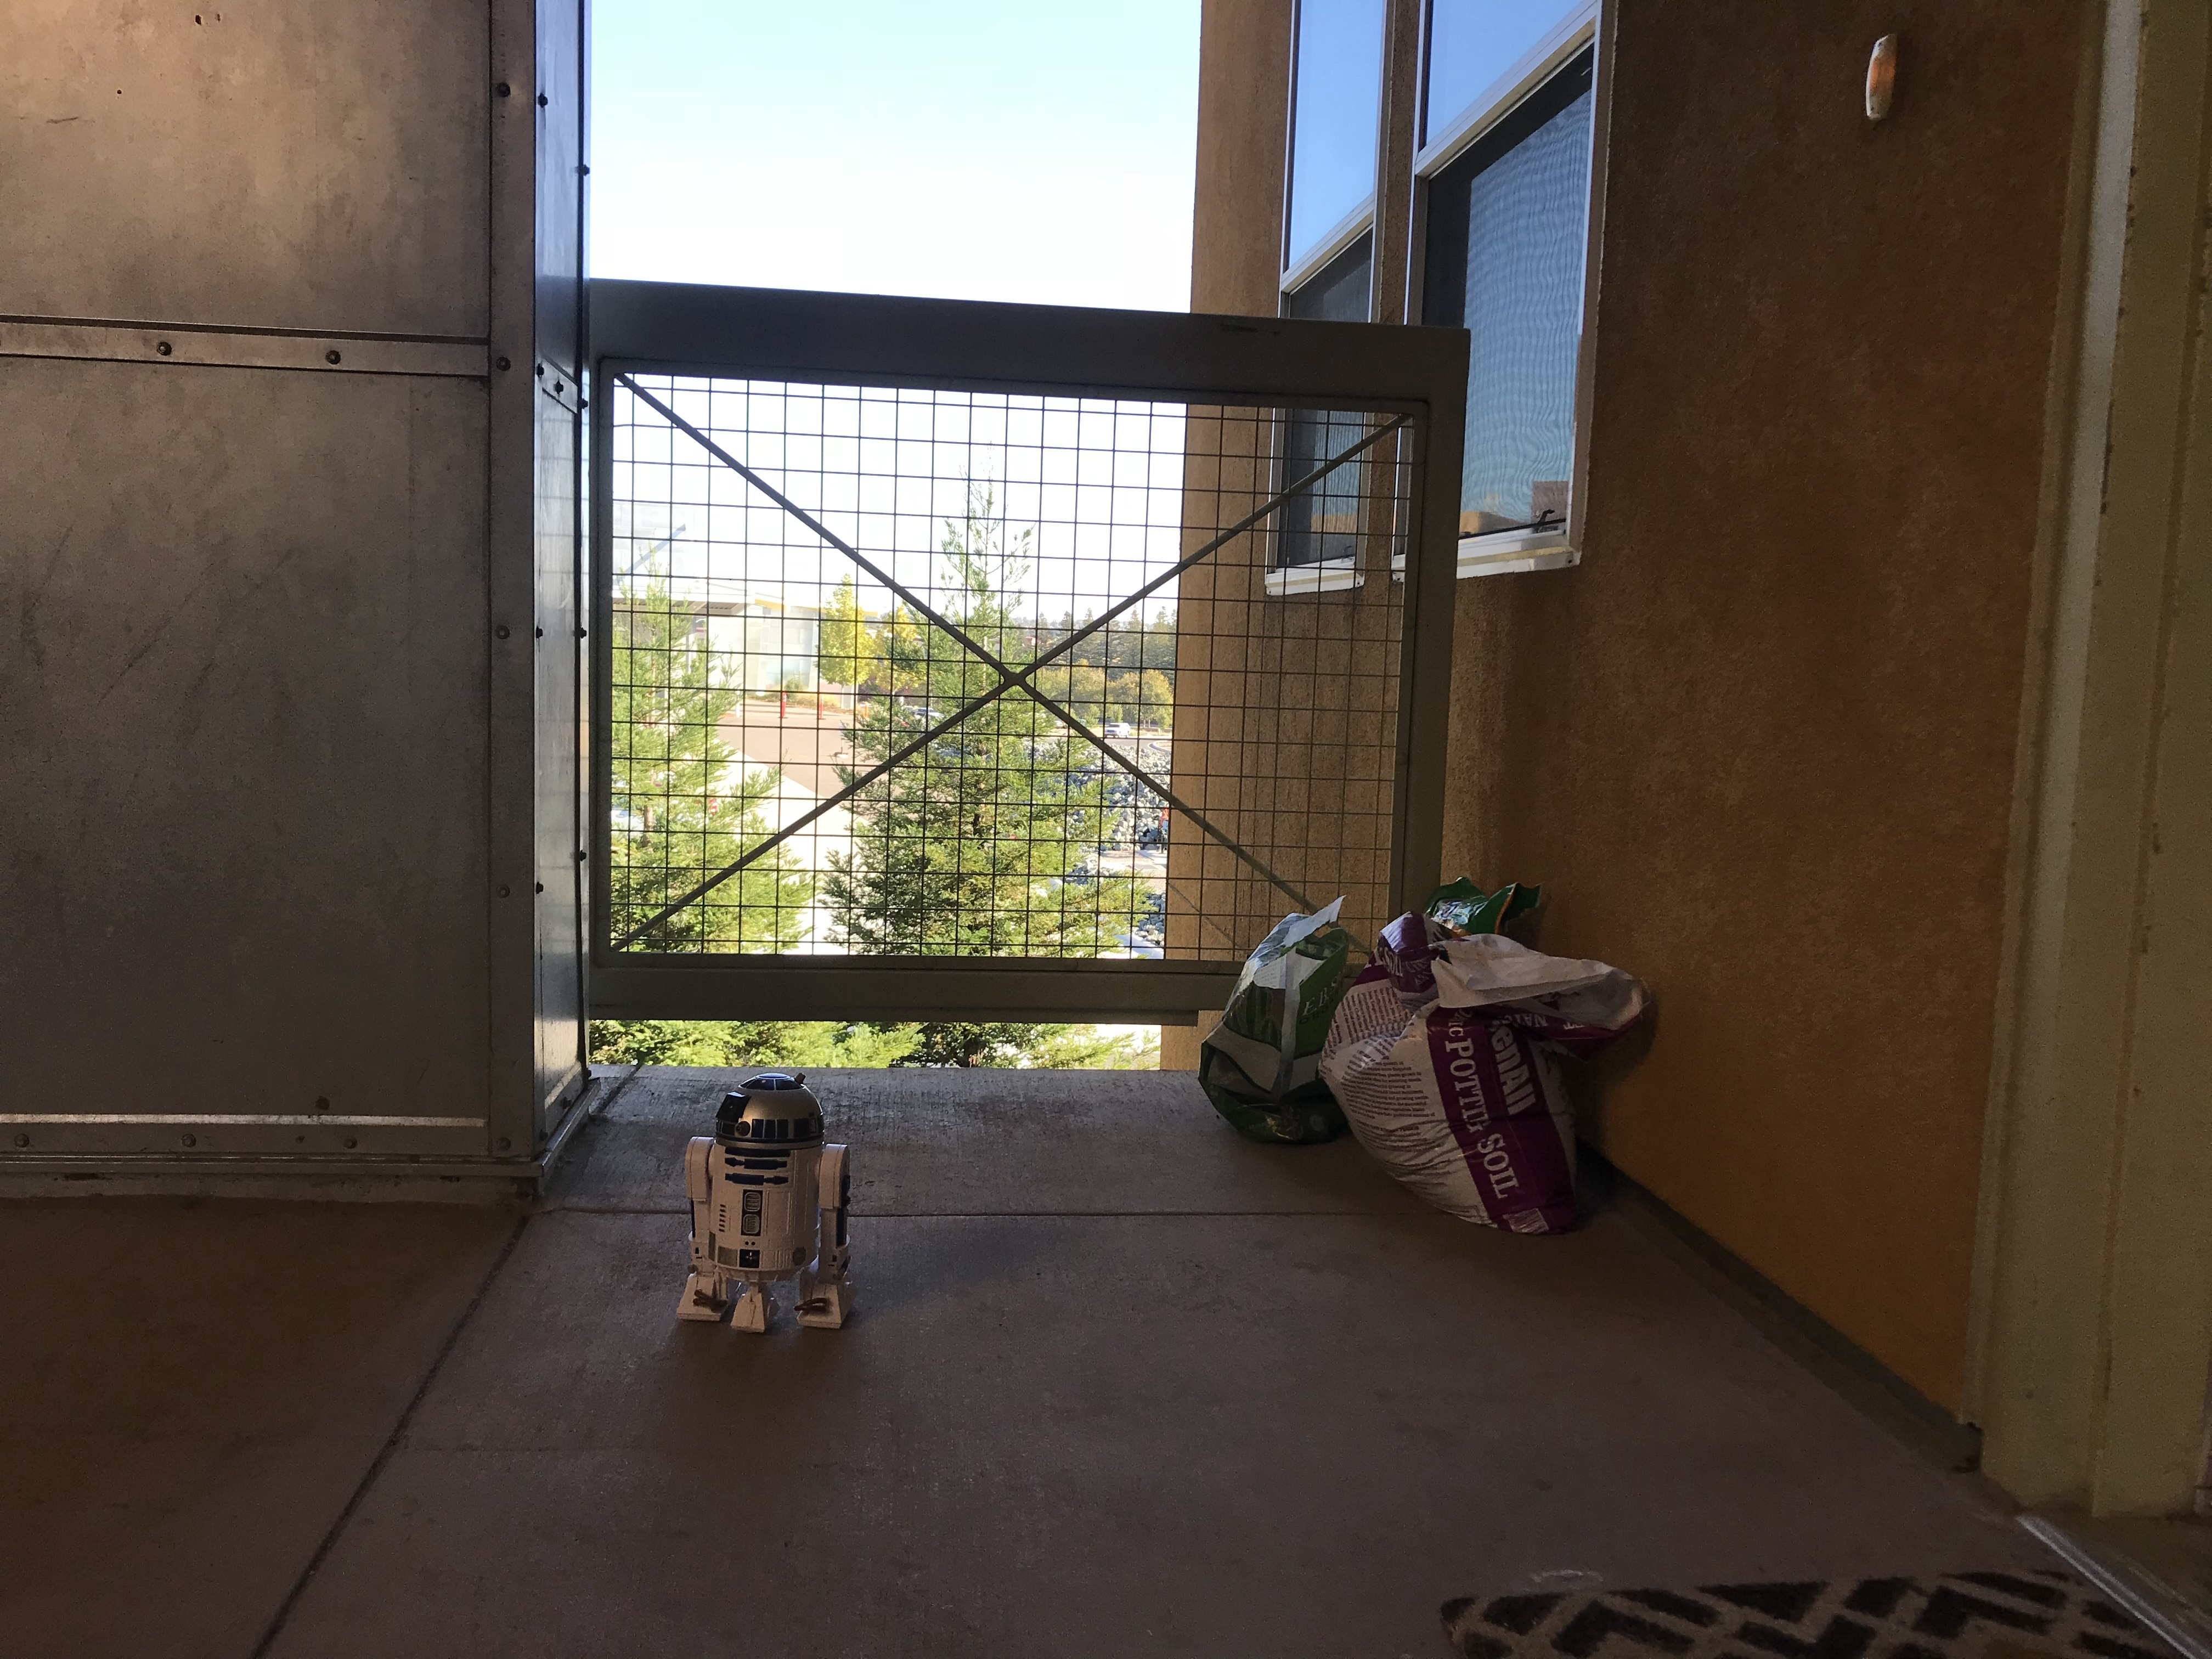r2d2: (681, 1068, 853, 1338)
